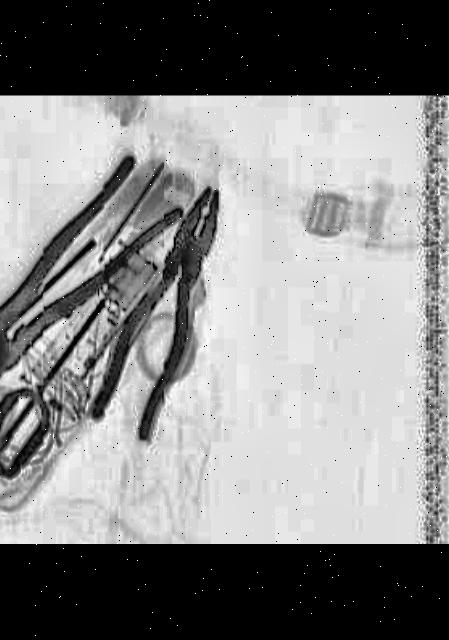Pliers: (0, 156, 205, 416), (84, 182, 250, 446)
